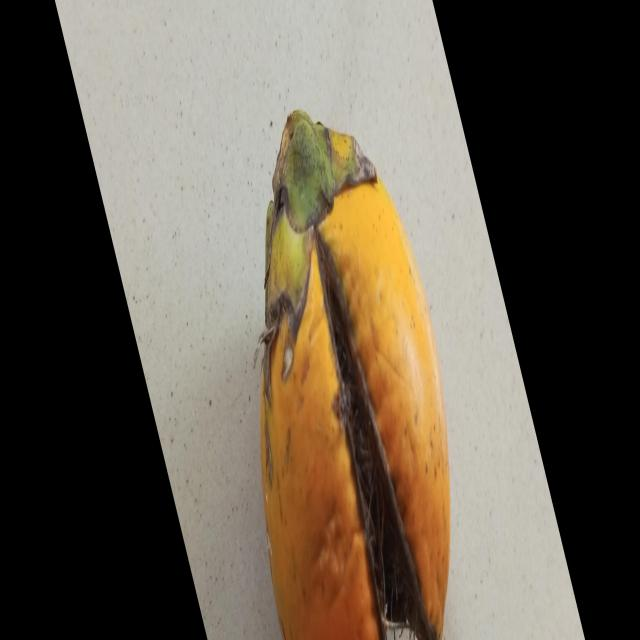damaged: (256, 110, 450, 640)
